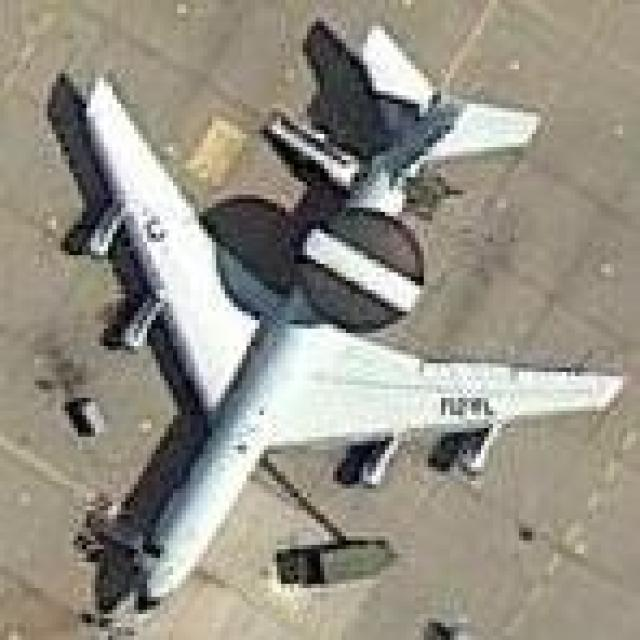E-3_TopDown: (35, 17, 627, 610)
